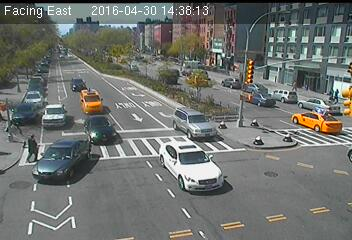neg: (114, 53, 130, 74), (255, 164, 270, 184), (158, 146, 173, 166), (47, 44, 61, 63), (181, 101, 194, 118), (84, 85, 96, 101), (119, 99, 131, 115), (210, 41, 222, 57)
pos: (21, 132, 42, 161), (4, 115, 18, 134), (329, 85, 343, 102), (289, 77, 302, 94), (327, 85, 338, 100)
